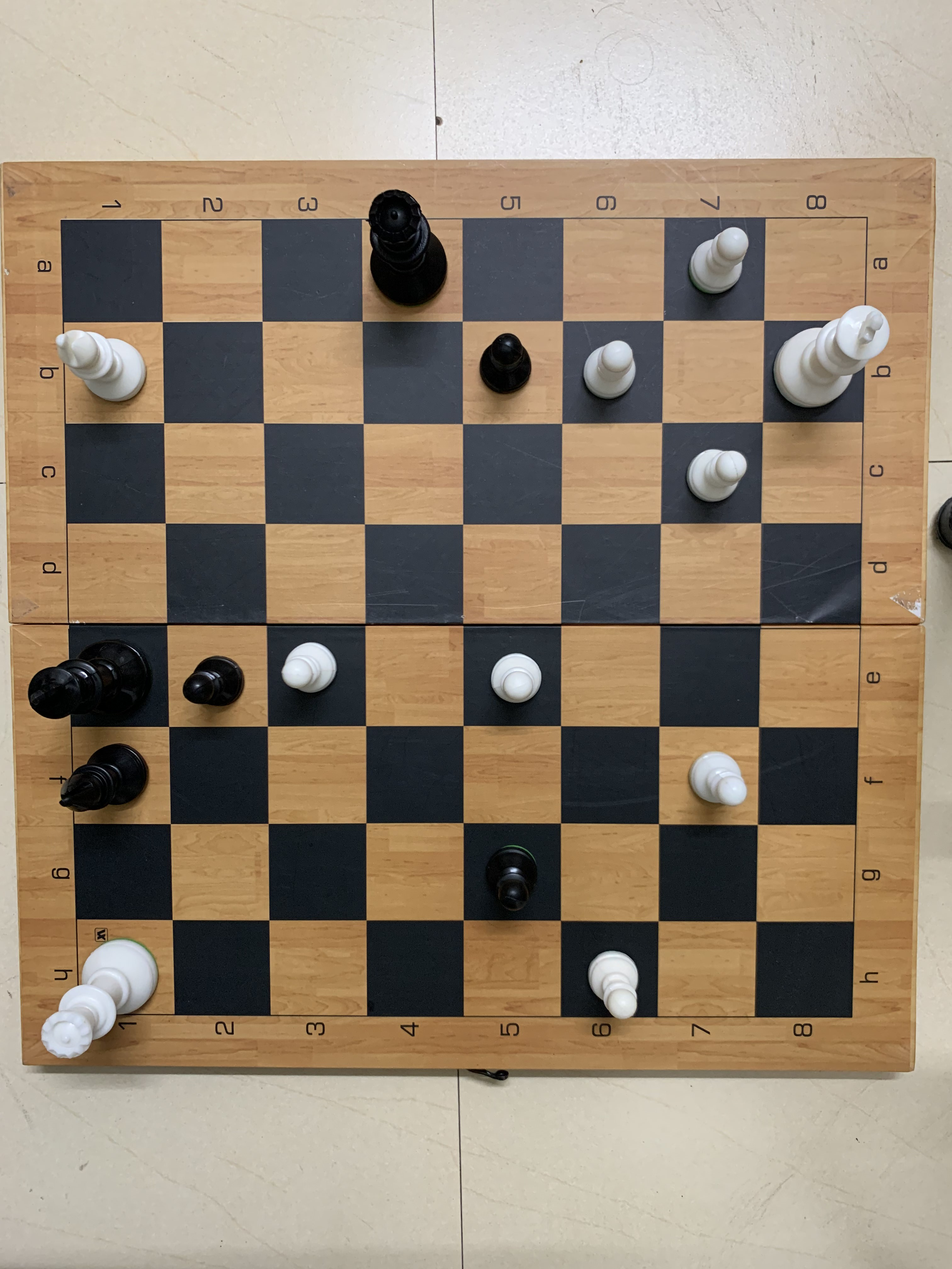black_bishop: (54, 727, 152, 824)
black_king: (22, 628, 164, 735)
black_pawn: (172, 620, 264, 730), (463, 321, 560, 422), (463, 825, 551, 922), (463, 324, 555, 409)
black_queen: (354, 181, 474, 323)
white_bishop: (50, 318, 166, 424)
white_king: (770, 298, 891, 416)
white_pawn: (557, 329, 658, 422), (663, 726, 756, 824), (261, 619, 352, 718), (675, 219, 765, 318), (664, 430, 759, 522), (472, 630, 564, 718), (568, 933, 652, 1026)
white_queen: (28, 913, 173, 1068)
